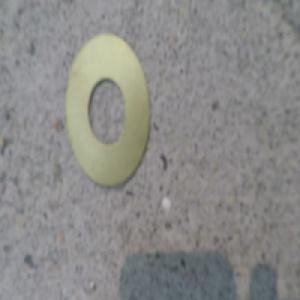Washer: (67, 35, 151, 188)
